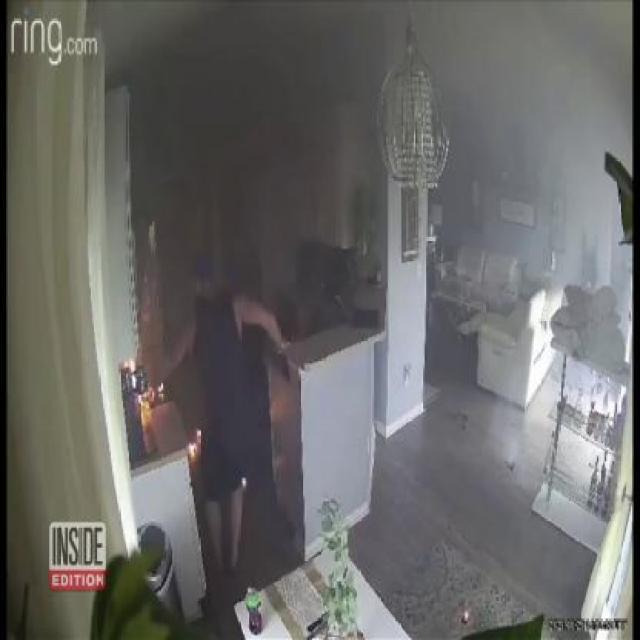smoke: (468, 18, 628, 160), (137, 0, 323, 105)
